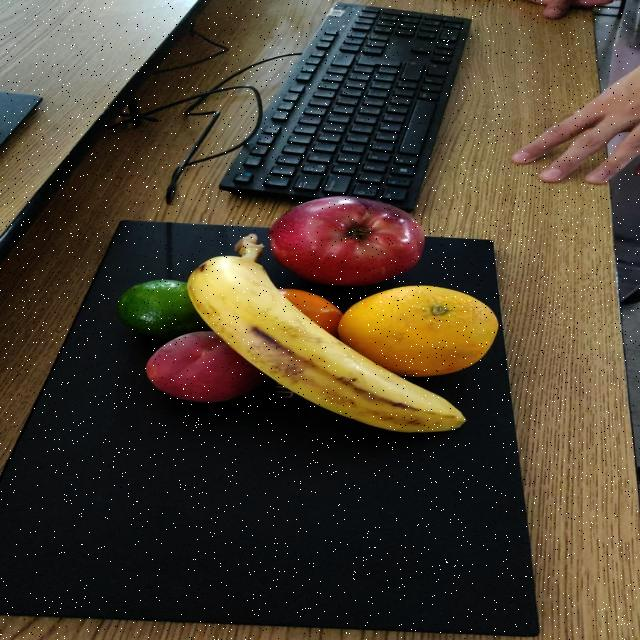Apel Merah: (247, 191, 436, 288)
Jeruk: (330, 282, 514, 383)
Jeruk Mandarin: (265, 284, 347, 338)
Lemon: (106, 275, 214, 337)
Persik: (133, 323, 276, 404)
Pisang: (178, 231, 475, 442)
